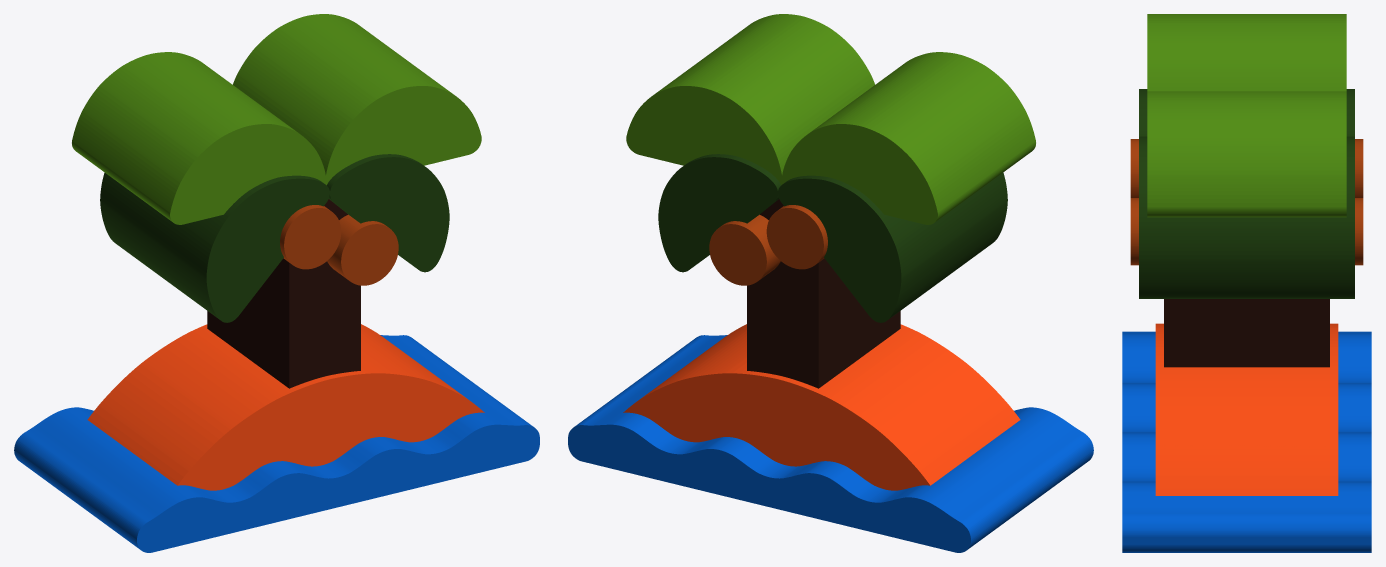
3 views of the same model, side by side, from view 1: azimuth 30°, elevation 25°; view 2: azimuth 150°, elevation 25°; view 3: azimuth 270°, elevation 25° (orthographic).
Parts seen in each view (by area): view 1: U+1F3DD_layer02_obj00, U+1F3DD_layer01_obj00, U+1F3DD_layer05_obj00, U+1F3DD_layer03_obj00, U+1F3DD_layer00_obj00, U+1F3DD_layer04_obj00; view 2: U+1F3DD_layer02_obj00, U+1F3DD_layer01_obj00, U+1F3DD_layer05_obj00, U+1F3DD_layer03_obj00, U+1F3DD_layer00_obj00, U+1F3DD_layer04_obj00; view 3: U+1F3DD_layer02_obj00, U+1F3DD_layer05_obj00, U+1F3DD_layer01_obj00, U+1F3DD_layer03_obj00, U+1F3DD_layer00_obj00, U+1F3DD_layer04_obj00.
Part boxes in pixels (<box>): U+1F3DD_layer02_obj00: <box>72,14,481,224</box>; U+1F3DD_layer01_obj00: <box>87,324,484,490</box>; U+1F3DD_layer05_obj00: <box>14,335,539,552</box>; U+1F3DD_layer03_obj00: <box>100,154,449,322</box>; U+1F3DD_layer00_obj00: <box>207,199,360,388</box>; U+1F3DD_layer04_obj00: <box>280,205,398,285</box>; U+1F3DD_layer02_obj00: <box>626,14,1035,224</box>; U+1F3DD_layer01_obj00: <box>623,324,1020,490</box>; U+1F3DD_layer05_obj00: <box>568,335,1093,552</box>; U+1F3DD_layer03_obj00: <box>658,154,1007,322</box>; U+1F3DD_layer00_obj00: <box>747,199,900,388</box>; U+1F3DD_layer04_obj00: <box>709,205,827,285</box>; U+1F3DD_layer02_obj00: <box>1147,14,1346,217</box>; U+1F3DD_layer05_obj00: <box>1122,331,1371,552</box>; U+1F3DD_layer01_obj00: <box>1155,323,1338,495</box>; U+1F3DD_layer03_obj00: <box>1139,89,1354,298</box>; U+1F3DD_layer00_obj00: <box>1164,299,1329,367</box>; U+1F3DD_layer04_obj00: <box>1130,139,1363,265</box>.
Bounding box in the file's own units: 0.5684 × 0.5274 × 0.3.
